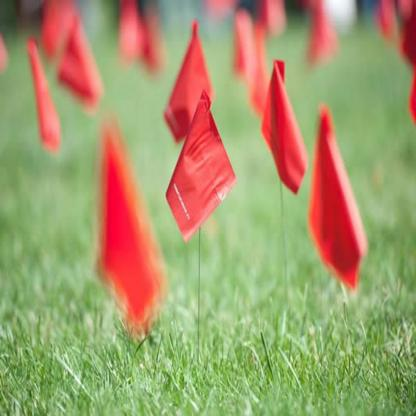other: (29, 7, 381, 280)
